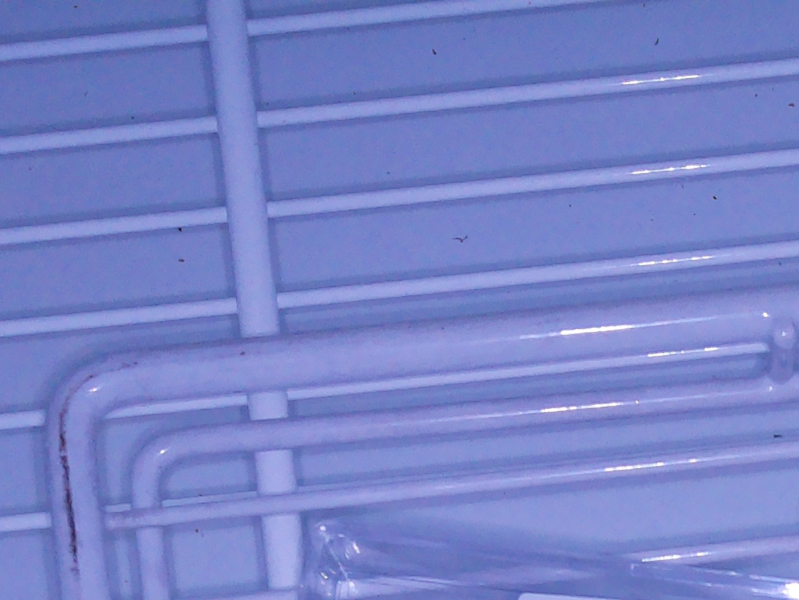plate: (293, 515, 799, 600)
